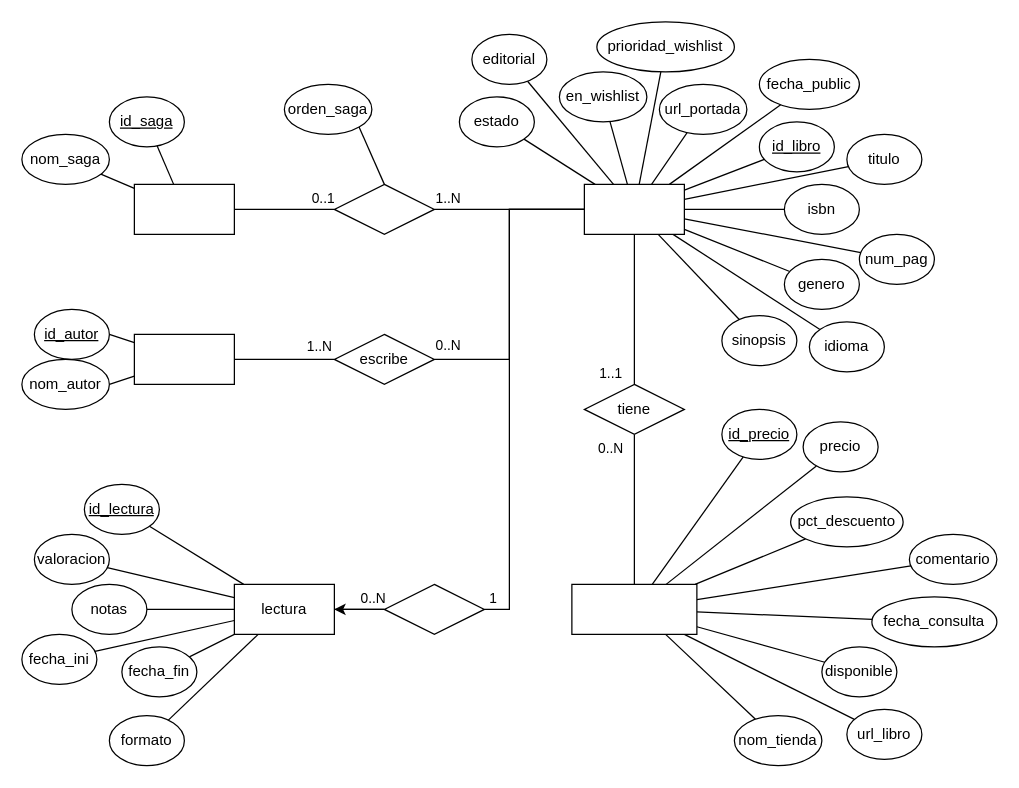
Image size: 1019x788. Some labels were removed from this diagram. The shapes that lost their labels are listed below. From the top down, each one's centre as x and y in pixels, then its label:
At point (183, 208): "saga".
At point (383, 208): "pertenece".
At point (633, 208): "libro".
At point (183, 358): "autor".
At point (433, 608): "realizas".
At point (634, 608): "historico_precio".
